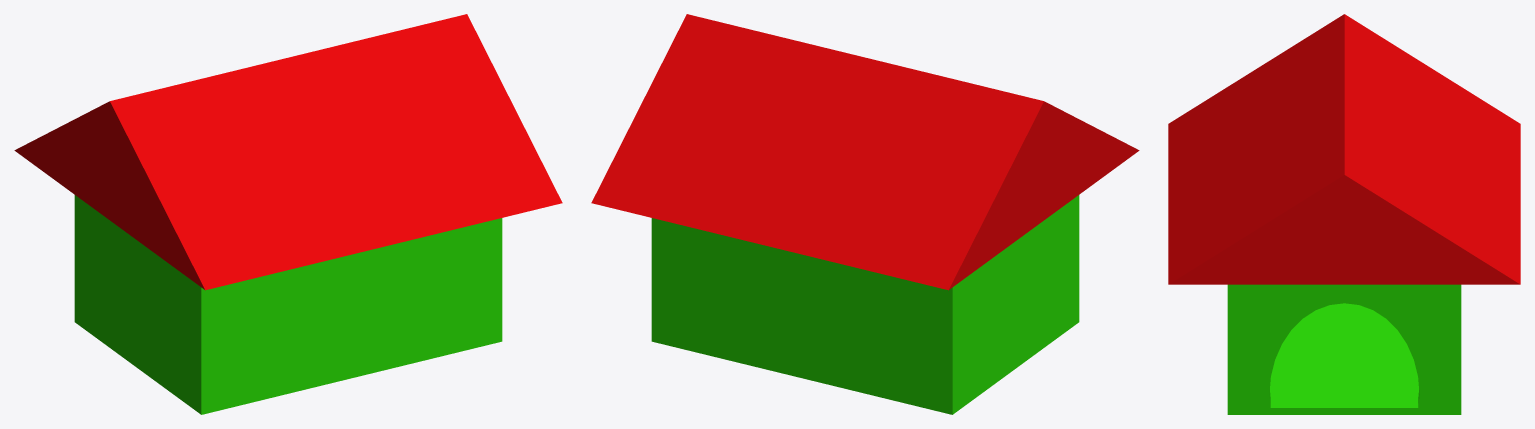
The model's file is DogBox.fbx.
3 renders of one model, left to right at view 1: azimuth 30°, elevation 25°; view 2: azimuth 150°, elevation 25°; view 3: azimuth 270°, elevation 25°, orthographic. The views are drawn at different scales.
Parts seen in each view (by area): view 1: Cube; view 2: Cube; view 3: Cube.
Part boxes in pixels (x1,y1,x2,y2): Cube: (14,14,562,414); Cube: (591,14,1139,414); Cube: (1168,14,1520,414).
Bounding box in the file's own units: 507 × 372 × 470.
